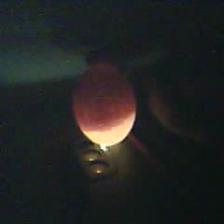fertile: (72, 62, 136, 146)
